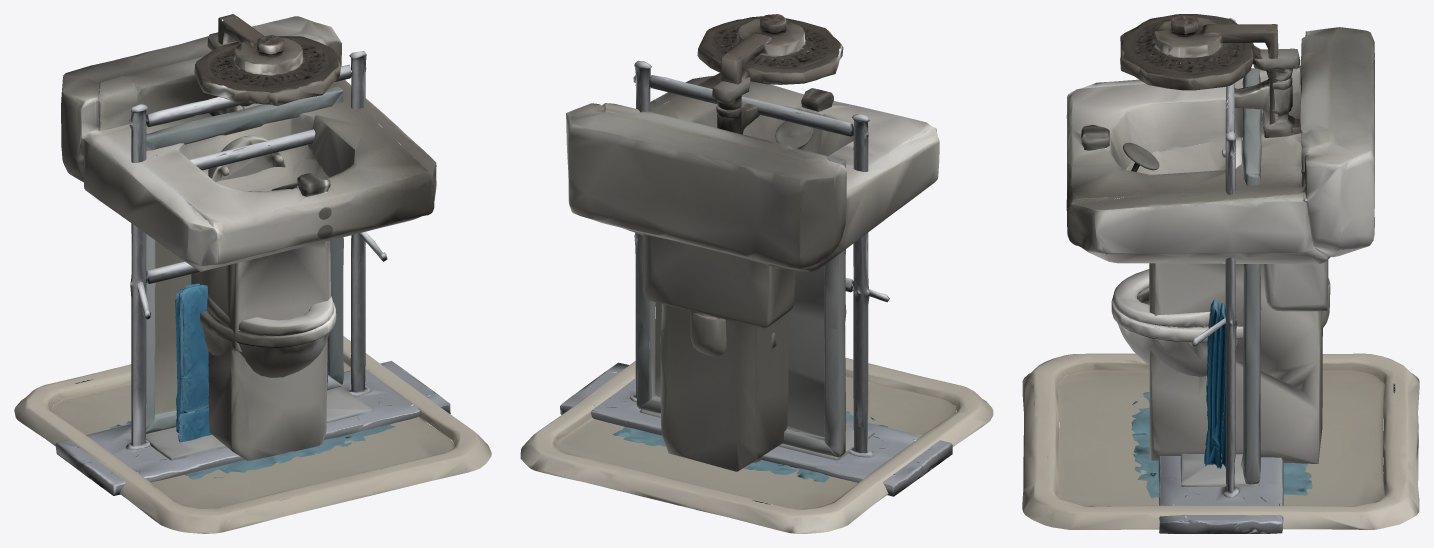
The model's file is salle-de-bain.glb.
The picture shows the model from 3 angles, left to right: view 1: azimuth 30°, elevation 25°; view 2: azimuth 150°, elevation 25°; view 3: azimuth 270°, elevation 25°; orthographic projection. The views are drawn at different scales.
Visible parts, largest first — view 1: lavabo, douche-receveur, porte-serviettes, miroir-lavabo, douche-colonne, toilettes, serviette-etendue, tapis-bain, abattant; view 2: lavabo, douche-receveur, porte-serviettes, miroir-lavabo, toilettes, douche-colonne, tapis-bain; view 3: lavabo, douche-receveur, douche-colonne, porte-serviettes, toilettes, miroir-lavabo, serviette-etendue, tapis-bain.
Part boxes in pixels (x1,y1,x2,y2): lavabo: (61,16,436,460); douche-receveur: (14,336,491,533); porte-serviettes: (55,51,450,495); miroir-lavabo: (145,86,372,460); douche-colonne: (194,14,340,109); toilettes: (200,155,336,377); serviette-etendue: (175,282,327,442); tapis-bain: (110,410,395,479); abattant: (208,135,285,182); lavabo: (566,73,939,471); douche-receveur: (520,357,993,533); porte-serviettes: (560,60,952,496); miroir-lavabo: (636,111,874,460); toilettes: (642,234,796,463); douche-colonne: (697,14,843,109); tapis-bain: (612,411,887,482); lavabo: (1066,27,1374,463); douche-receveur: (1022,353,1419,529); douche-colonne: (1120,14,1300,137); porte-serviettes: (1158,18,1283,533); toilettes: (1111,134,1330,376); miroir-lavabo: (1180,68,1261,493); serviette-etendue: (1204,299,1226,468); tapis-bain: (1131,392,1312,498).
Size of the model in its own units: 0.9813 by 1.13 by 0.9492.
Materials: 14 (14 with a texture image).
